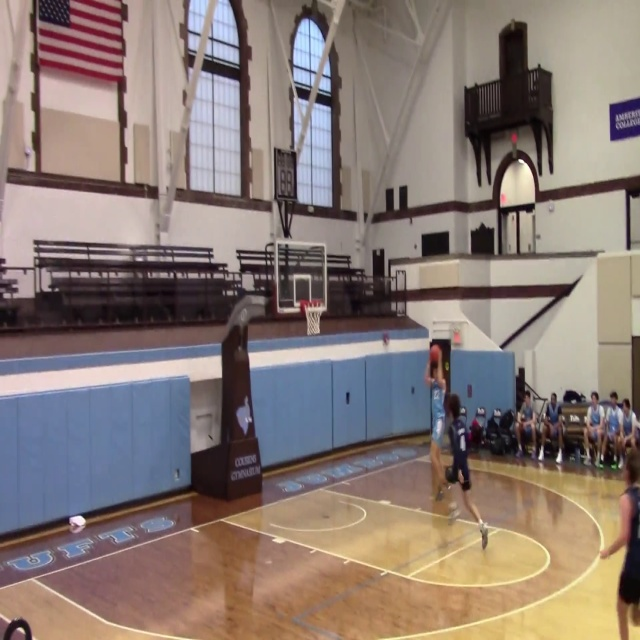Basketball: (69, 515, 86, 528), (429, 345, 441, 363), (445, 466, 457, 483)
